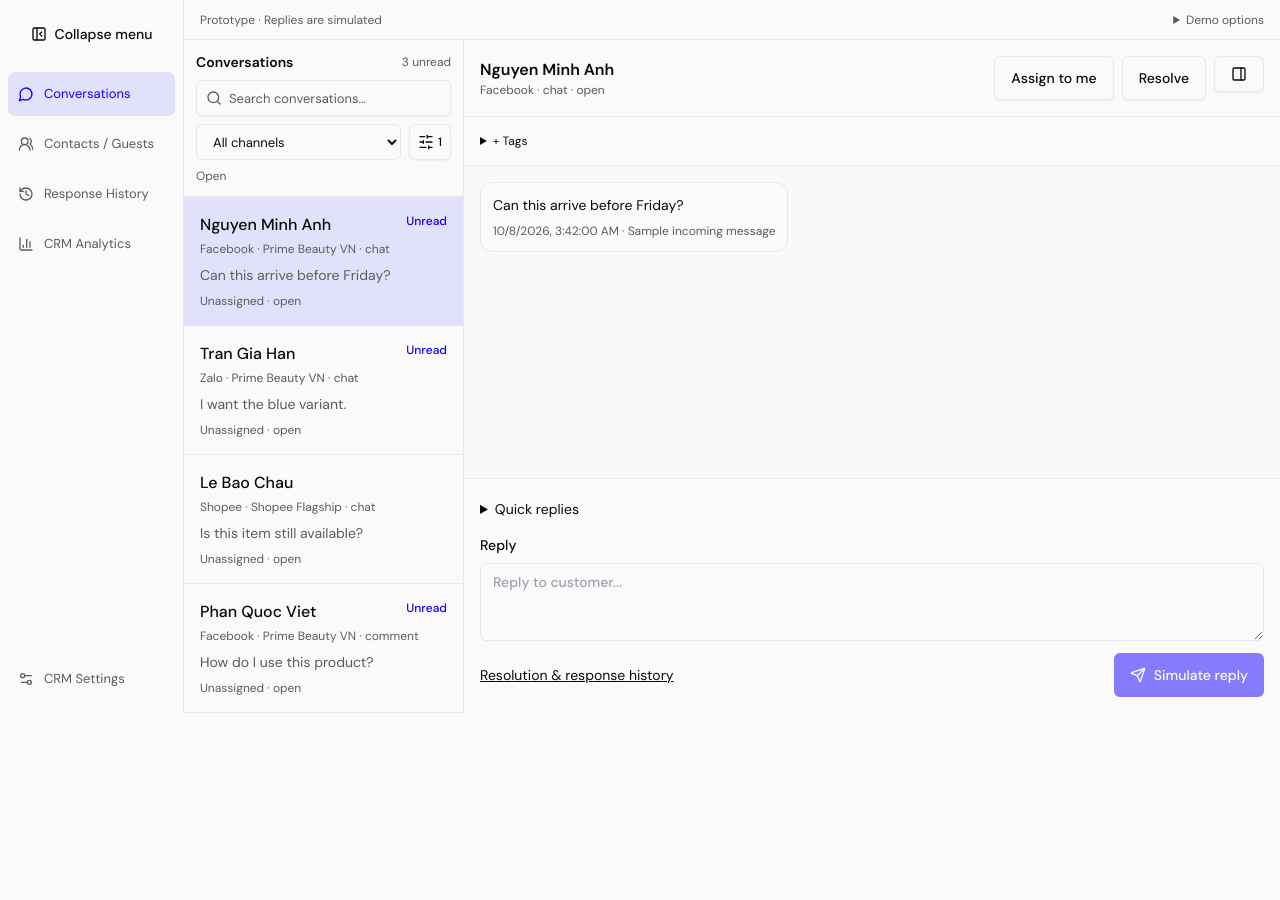
it: Prime CRM workspace flows › keeps each conversation independent and records a simulated reply in history
Type "Hello Anh" into the text box labelled "Reply" at (872, 602), box [480,563,1264,641]
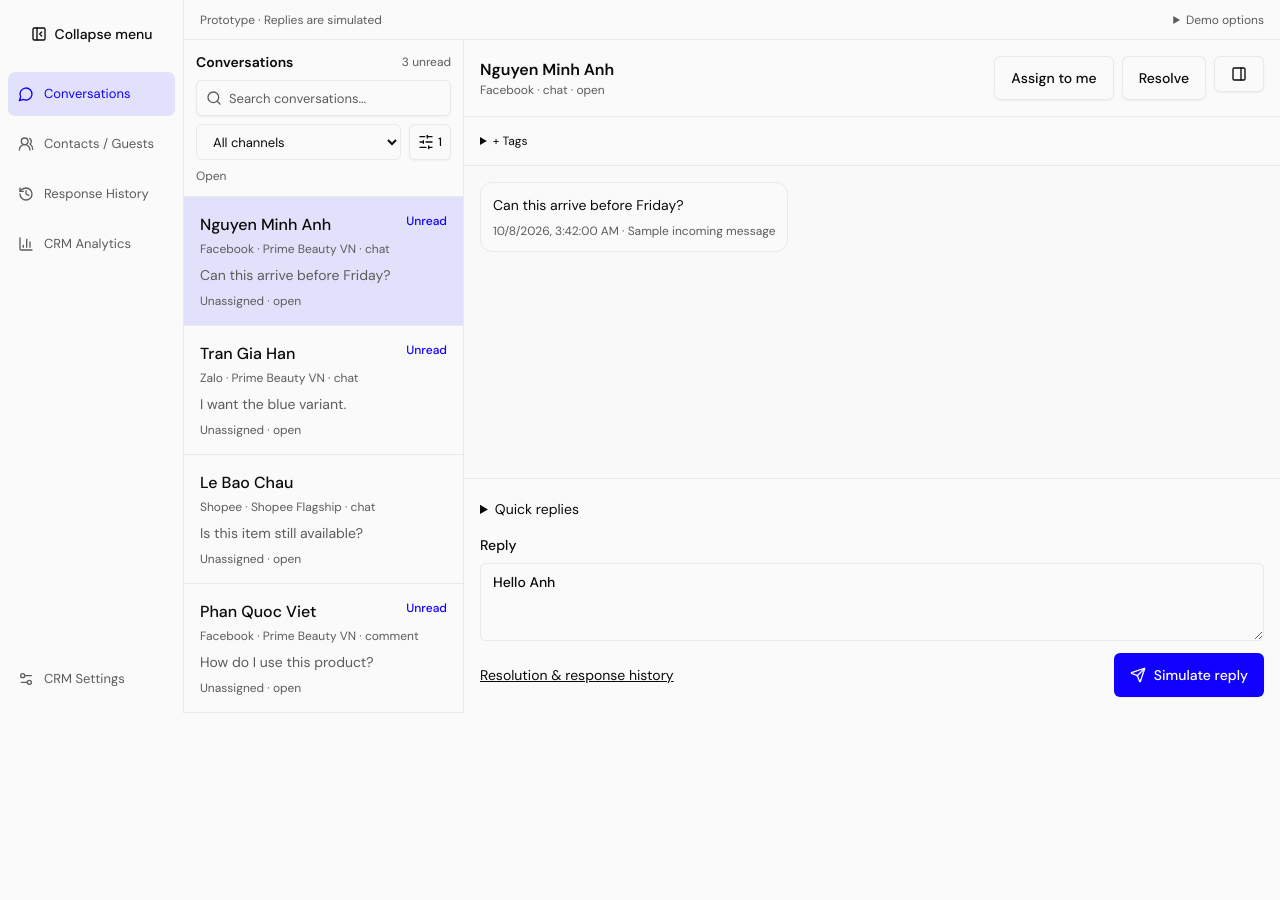
Click the button "Simulate reply" at (1189, 675), box [1114,653,1264,697]
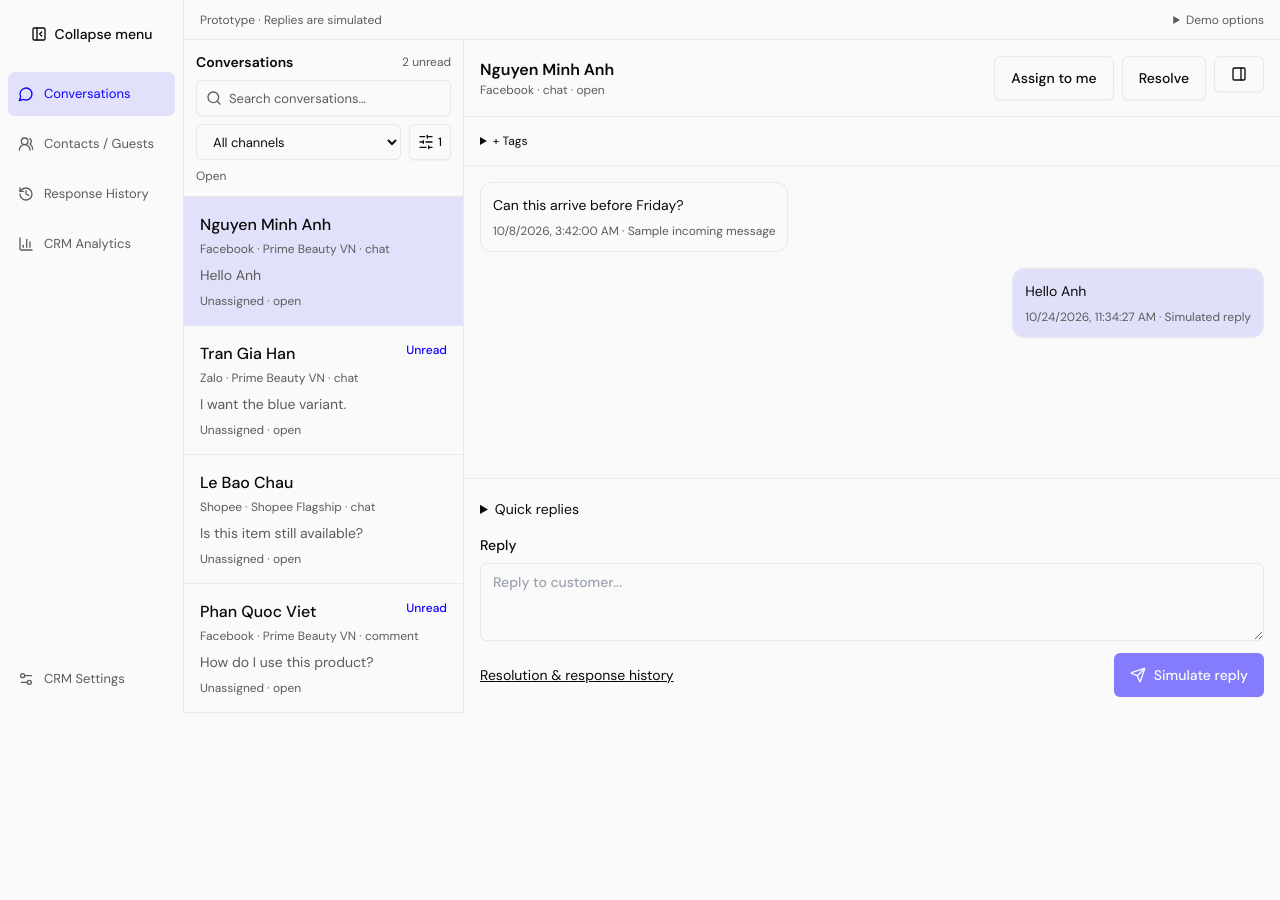
Expected: the text "Hello Anh" below "Sample incoming message" is shown, [1025,282,1086,300]
Click the button that starts with "Tran Gia Han" at (248, 354), box [184,326,463,455]
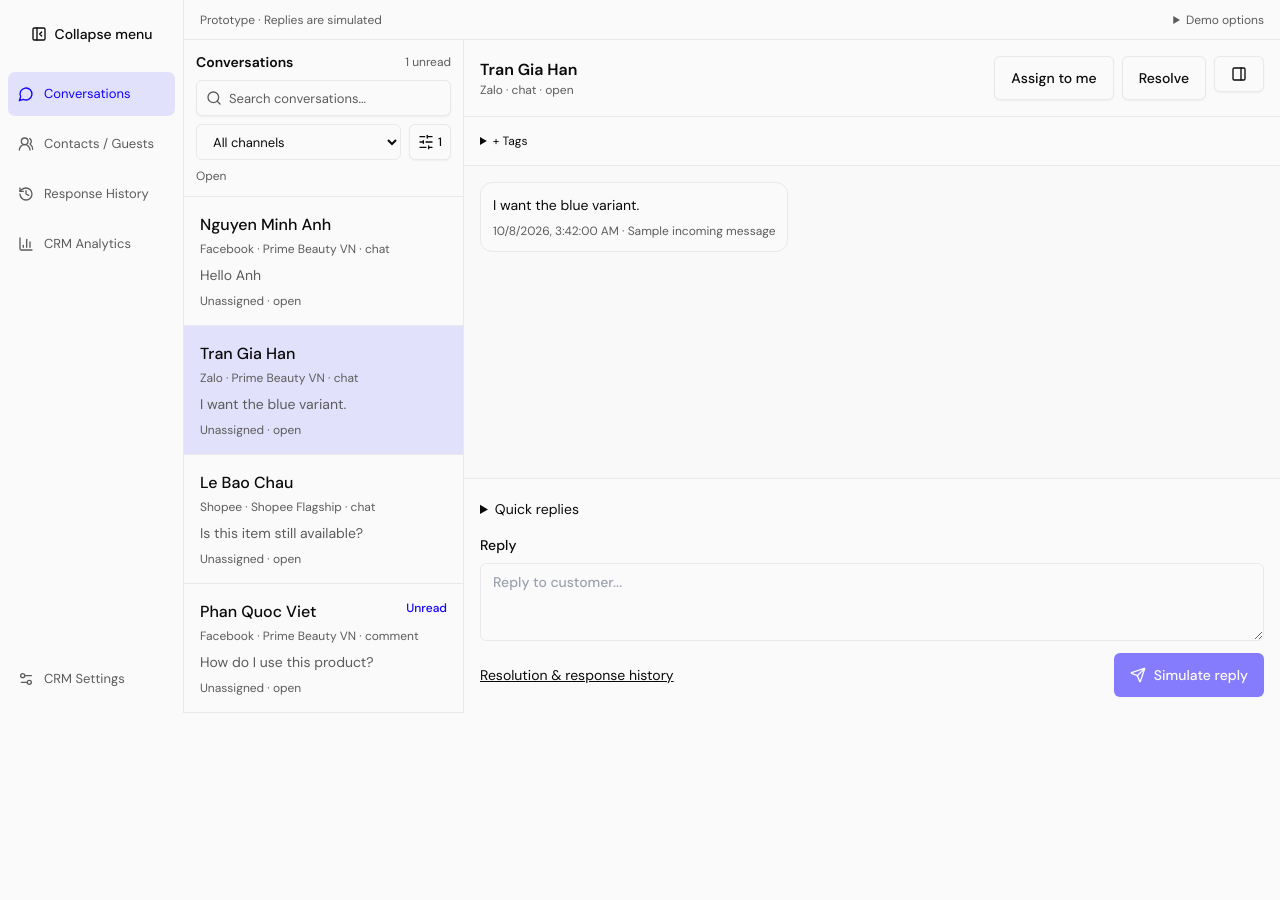
Click the link "Response History" at (83, 194), box [18,185,149,202]
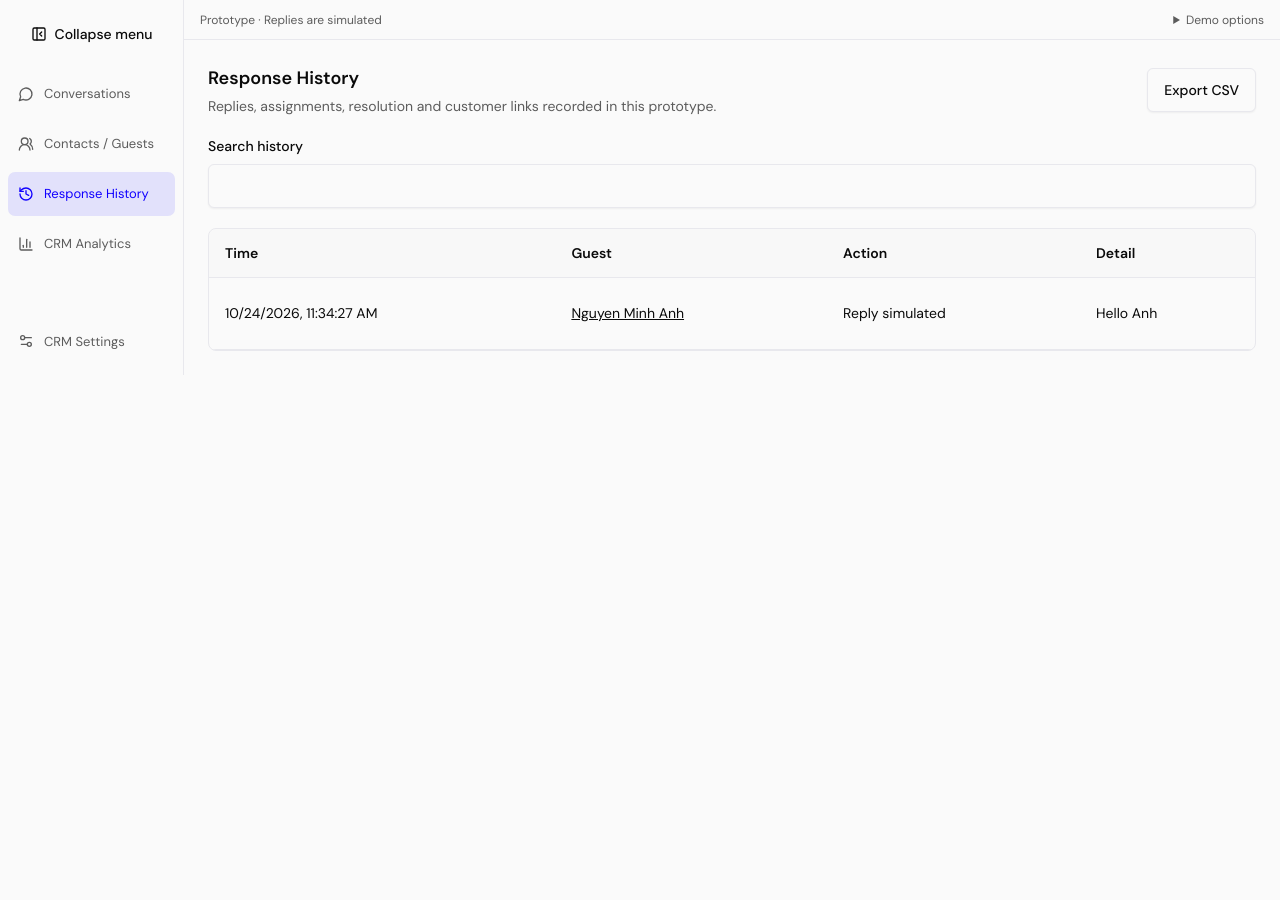
Expected: the text "Hello Anh" is shown, [1080,278,1255,350]
Expected: the text "Reply simulated" is shown, [827,278,1080,350]
